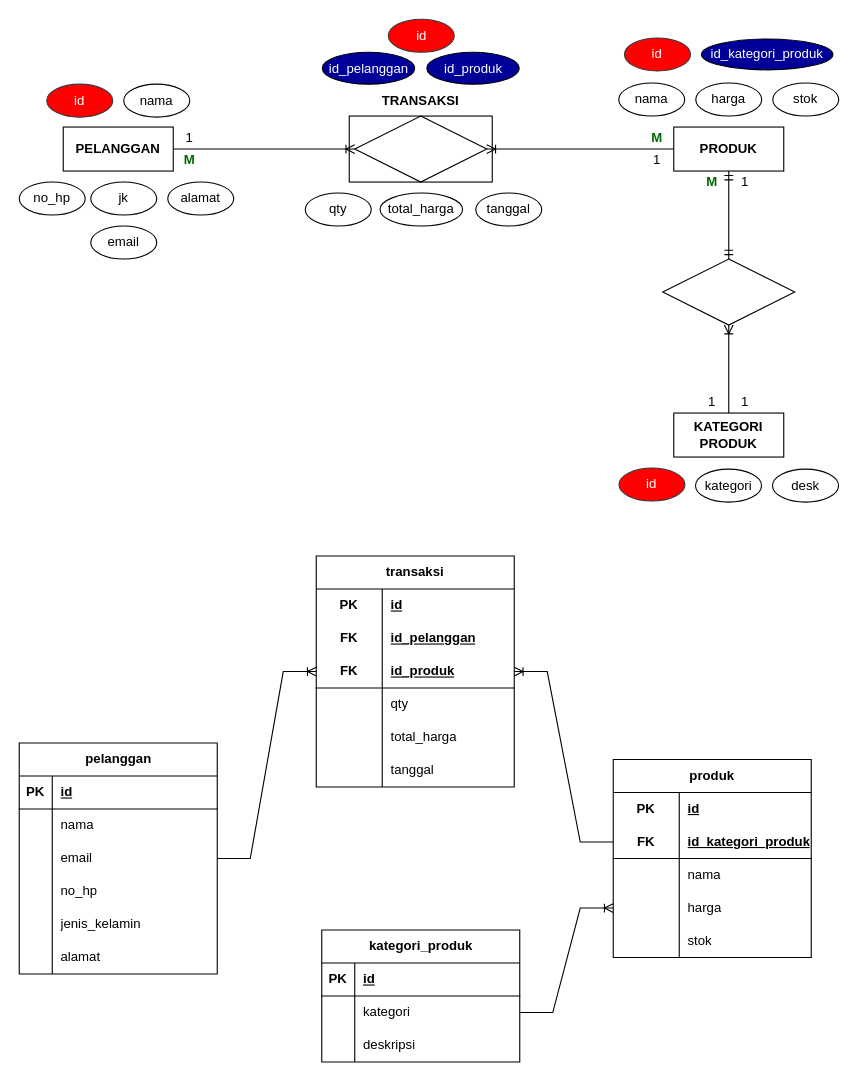
Some shapes in this 858 by 1081 pixel diagram are drawn without their labels. The shapes that lost their labels are listed below. From the top down, each one's centre as x and y in pixels, then its label:
At pixel 420 148: "membeli".
At pixel 728 291: "memiliki".
